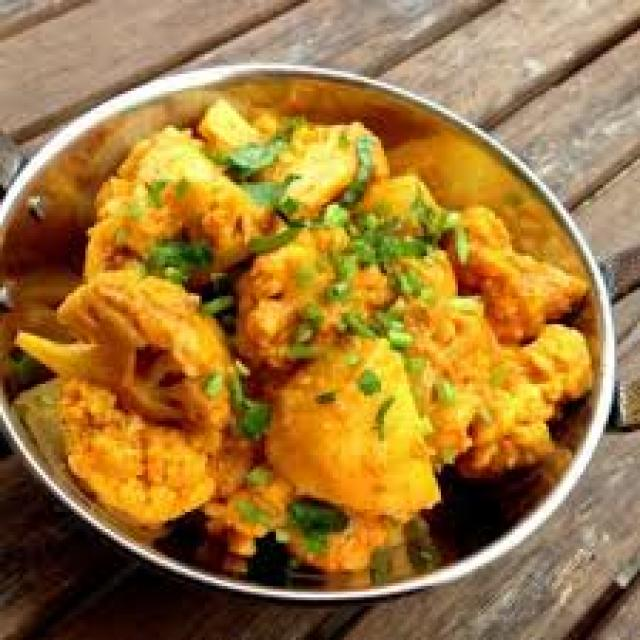Aloo Gobi: (76, 111, 551, 564)
